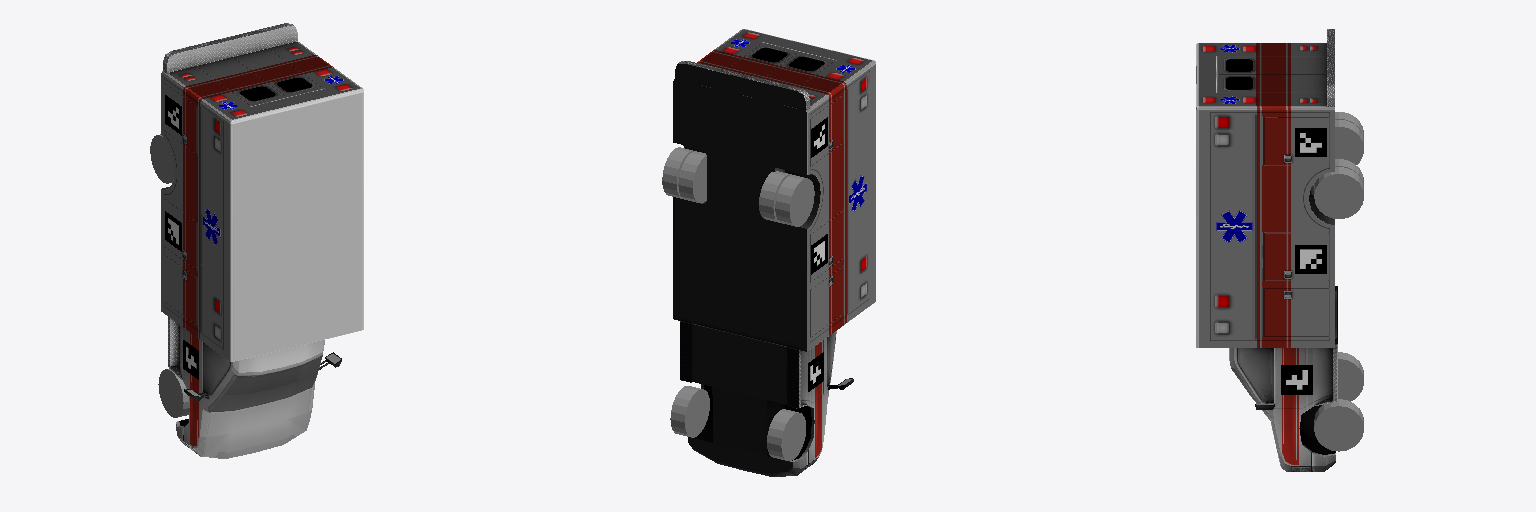
3 views of the same model, side by side, from view 1: azimuth 30°, elevation 25°; view 2: azimuth 150°, elevation 25°; view 3: azimuth 270°, elevation 25° (orthographic).
Parts seen in each view (by area): view 1: Ambulance, Wheel_Front_Right, Wheels_Rear; view 2: Ambulance, Wheels_Rear, Wheel_Front_Left, Wheel_Front_Right; view 3: Ambulance, Wheels_Rear, Wheel_Front_Left, Wheel_Front_Right.
Boxes of the visible parts, box(x1,y1,x2,y2) form: Ambulance: box(161, 23, 363, 458); Wheel_Front_Right: box(158, 368, 189, 417); Wheels_Rear: box(150, 134, 174, 183); Ambulance: box(673, 29, 875, 476); Wheels_Rear: box(662, 147, 814, 226); Wheel_Front_Left: box(670, 386, 709, 437); Wheel_Front_Right: box(767, 409, 805, 460); Ambulance: box(1196, 29, 1337, 471); Wheels_Rear: box(1314, 112, 1363, 218); Wheel_Front_Left: box(1314, 399, 1363, 451); Wheel_Front_Right: box(1338, 352, 1363, 401).
Bounding box in the file's own units: 117 × 297 × 114.
Materials: 2 (1 with a texture image).